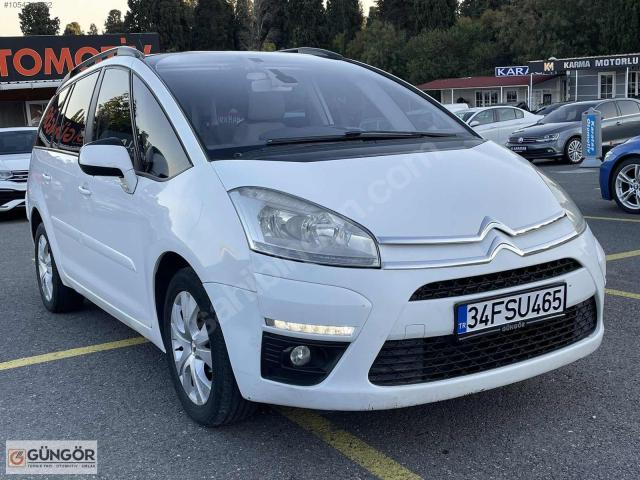plaka: (456, 284, 566, 334)
